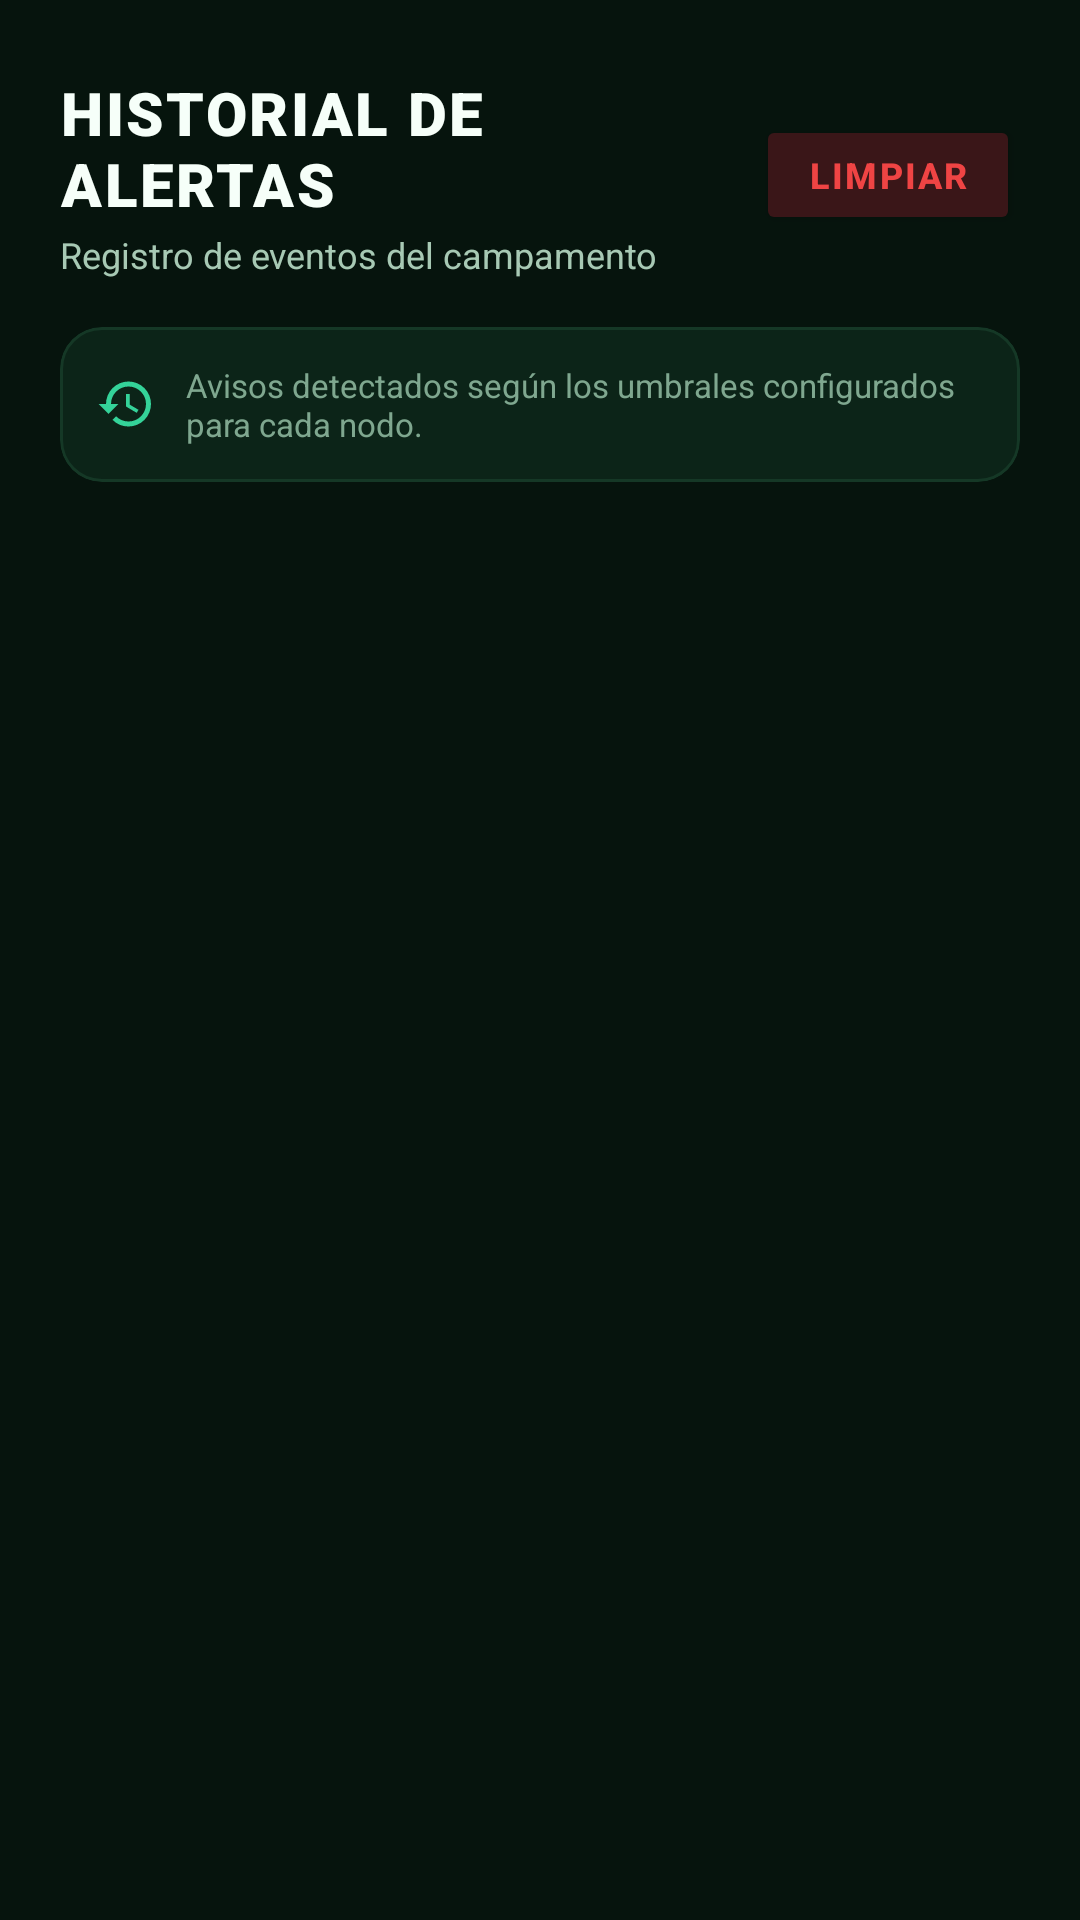

Icon bounding boxes for this 1080×1920 phone screenshot, format (x1, y1, x2, y2):
history: (99, 381, 151, 427)
